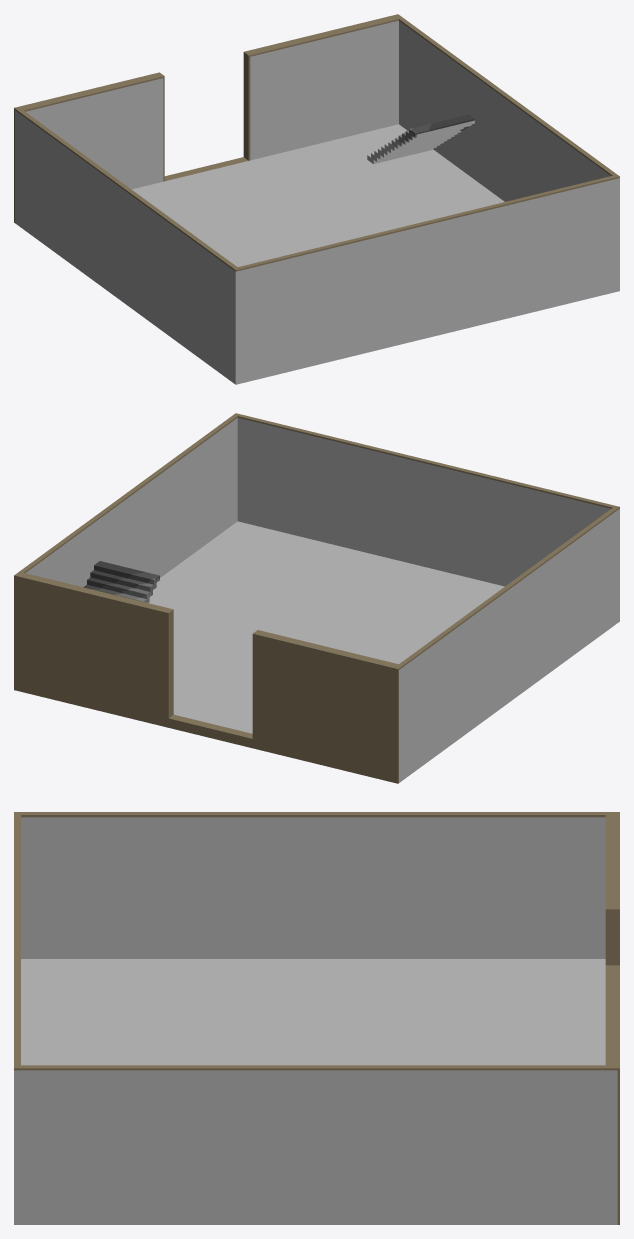
File: CentralInside.FBX
The picture shows the model from 3 angles, top to bottom: view 1: azimuth 30°, elevation 25°; view 2: azimuth 150°, elevation 25°; view 3: azimuth 270°, elevation 25°; orthographic projection. The views are drawn at different scales.
Parts seen in each view (by area): view 1: central inside; view 2: central inside; view 3: central inside.
Part boxes in pixels (left/top/right/bottom): central inside: left=14, top=14, right=619, bottom=384; central inside: left=14, top=413, right=619, bottom=783; central inside: left=14, top=812, right=619, bottom=1224.
Bounding box in the file's own units: 25.6 × 7.3 × 25.6.
Materials: 1 (1 with a texture image).
